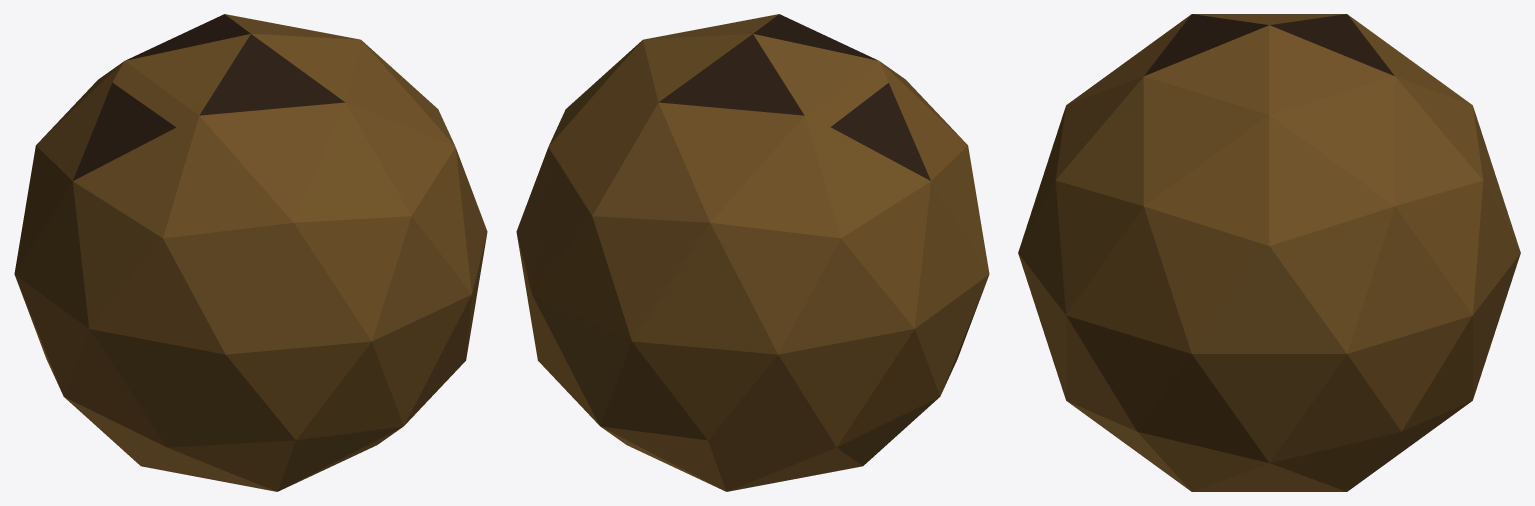
File: Coconut.fbx
3 renders of one model, left to right at view 1: azimuth 30°, elevation 25°; view 2: azimuth 150°, elevation 25°; view 3: azimuth 270°, elevation 25°, orthographic. The views are drawn at different scales.
Visible parts, largest first — view 1: Icosphere; view 2: Icosphere; view 3: Icosphere.
Part boxes in pixels (<box>): Icosphere: <box>14,14,487,491</box>; Icosphere: <box>516,14,989,491</box>; Icosphere: <box>1018,14,1520,491</box>.
Bounding box in the file's own units: 33.11 × 34.82 × 34.82.
